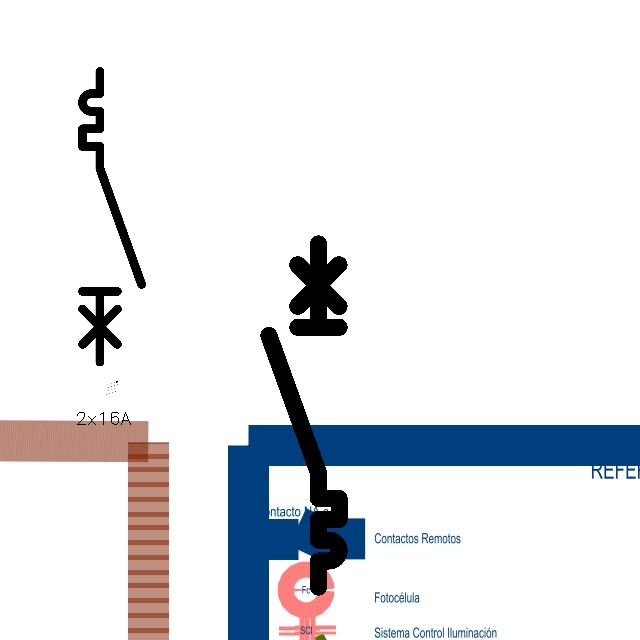interruptor_termomagnetico: (260, 235, 348, 596), (75, 64, 149, 369)
